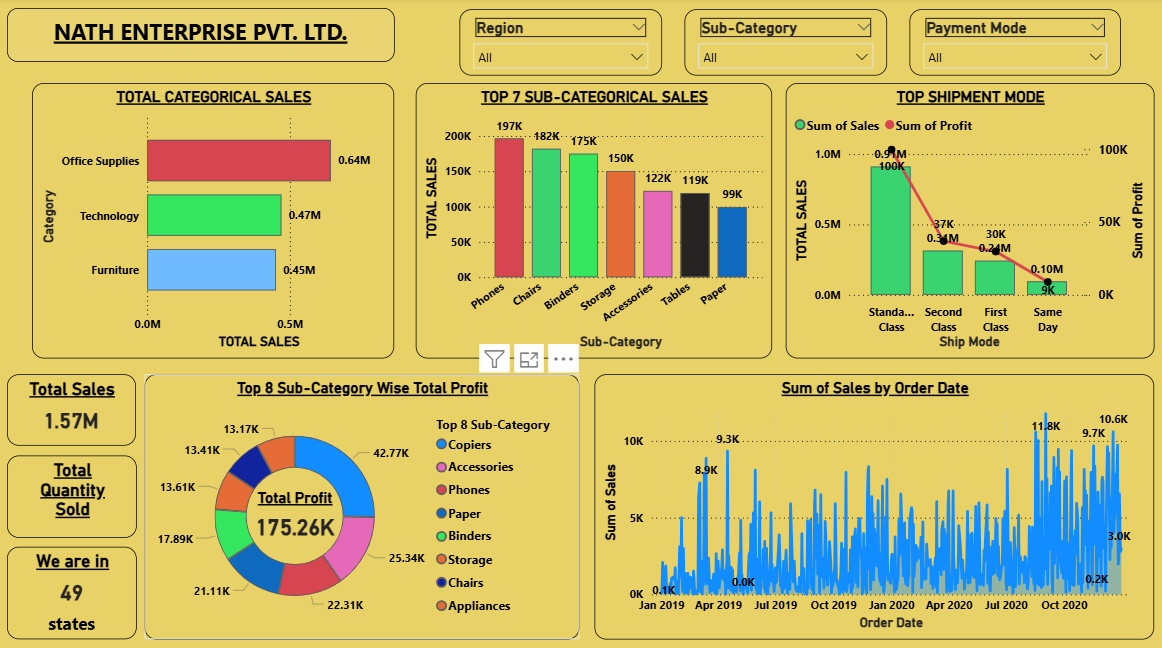

What the dashboard file says about the page in this screenshot:
{"tool":"powerbi","page":{"name":"Page 1","canvas":[1280,720],"ordinal":0},"visuals":[{"type":"clusteredBarChart","title":"TOTAL CATEGORICAL SALES","fields":{"Category":["SuperStore_Sales_Dataset.Category"],"Y":["Sum(SuperStore_Sales_Dataset.Sales)"]},"box":[38.7,93.9,397.8,302.5],"z":0},{"type":"textbox","box":[11,11,425.4,59],"z":1000},{"type":"columnChart","title":"TOP 7 SUB-CATEGORICAL SALES","fields":{"Category":["SuperStore_Sales_Dataset.Sub-Category"],"Y":["Sum(SuperStore_Sales_Dataset.Sales)"]},"box":[459.9,93.9,390.9,302.5],"z":2000},{"type":"lineStackedColumnComboChart","title":"TOP SHIPMENT MODE","fields":{"Category":["SuperStore_Sales_Dataset.Ship Mode"],"Y":["Sum(SuperStore_Sales_Dataset.Sales)"],"Y2":["Sum(SuperStore_Sales_Dataset.Profit)"]},"box":[866,93.9,404.7,302.5],"z":3000},{"type":"areaChart","fields":{"Y":["Sum(SuperStore_Sales_Dataset.Sales)"],"Category":["SuperStore_Sales_Dataset.Order Date"]},"box":[655.9,413,614.8,290.9],"z":4000},{"type":"donutChart","title":"Top 8 Sub-Category Wise Total Profit","fields":{"Category":["SuperStore_Sales_Dataset.Sub-Category"],"Y":["Sum(SuperStore_Sales_Dataset.Profit)"]},"box":[161.9,413,477.5,290.9],"z":5000},{"type":"card","title":"Total Profit","fields":{"Values":["Sum(SuperStore_Sales_Dataset.Profit)"]},"box":[237.4,537.9,179.8,64.5],"z":6000},{"type":"card","title":"Total Quantity Sold","fields":{"Values":["Sum(SuperStore_Sales_Dataset.Quantity)"]},"box":[11,502.2,142.7,90.6],"z":7000},{"type":"card","title":"Total Sales","fields":{"Values":["Sum(SuperStore_Sales_Dataset.Sales)"]},"box":[11,413,141.3,78.2],"z":8000},{"type":"slicer","fields":{"Values":["SuperStore_Sales_Dataset.Region"]},"box":[507.7,12.3,222.3,72.7],"z":9000},{"type":"card","title":"We are in","fields":{"Values":["Count(SuperStore_Sales_Dataset.State)"]},"box":[11,602.4,142.7,101.5],"z":10000},{"type":"slicer","fields":{"Values":["SuperStore_Sales_Dataset.Sub-Category"]},"box":[754.7,12.3,222.3,72.7],"z":11000},{"type":"slicer","fields":{"Values":["SuperStore_Sales_Dataset.Payment Mode"]},"box":[1001.7,12.3,231.9,72.7],"z":12000}]}

Visuals, with their boxes in screenshot pixels (x1, y1, x2, y2), scaled from the page's 1280x720 canvas onto the 1162x648 screenshot:
"TOTAL CATEGORICAL SALES" clusteredBarChart: <region>35, 85, 396, 357</region>
textbox: <region>10, 10, 396, 63</region>
"TOP 7 SUB-CATEGORICAL SALES" columnChart: <region>418, 85, 772, 357</region>
"TOP SHIPMENT MODE" lineStackedColumnComboChart: <region>786, 85, 1154, 357</region>
areaChart - Sum(SuperStore_Sales_Dataset.Sales) x SuperStore_Sales_Dataset.Order Date: <region>595, 372, 1154, 634</region>
"Top 8 Sub-Category Wise Total Profit" donutChart: <region>147, 372, 580, 634</region>
"Total Profit" card: <region>216, 484, 379, 542</region>
"Total Quantity Sold" card: <region>10, 452, 140, 534</region>
"Total Sales" card: <region>10, 372, 138, 442</region>
slicer - SuperStore_Sales_Dataset.Region: <region>461, 11, 663, 76</region>
"We are in" card: <region>10, 542, 140, 634</region>
slicer - SuperStore_Sales_Dataset.Sub-Category: <region>685, 11, 887, 76</region>
slicer - SuperStore_Sales_Dataset.Payment Mode: <region>909, 11, 1120, 76</region>
